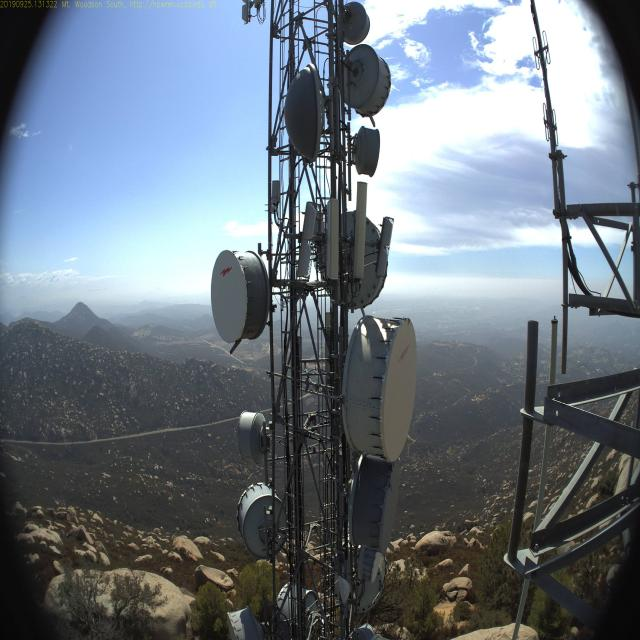smoke: (5, 304, 24, 322)
